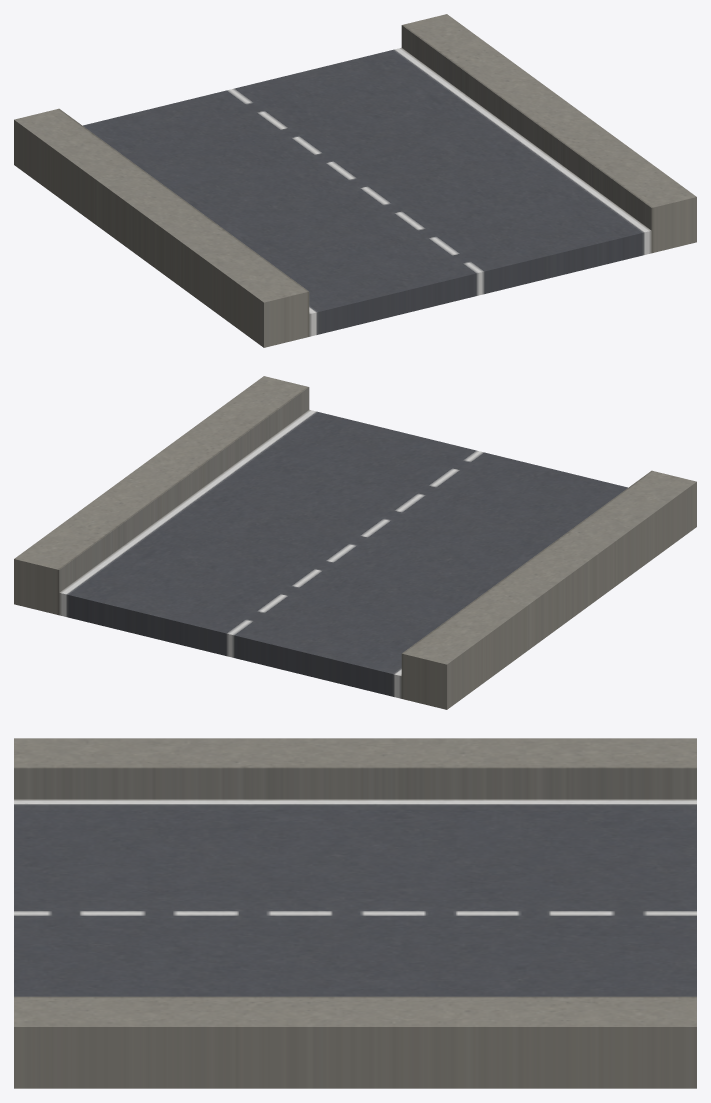
Rendered from street.glb.
The picture shows the model from 3 angles, top to bottom: view 1: azimuth 30°, elevation 25°; view 2: azimuth 150°, elevation 25°; view 3: azimuth 270°, elevation 25°; orthographic projection. The views are drawn at different scales.
Parts seen in each view (by area): view 1: Fläche; view 2: Fläche; view 3: Fläche.
Boxes of the visible parts, bbox=[...] form: Fläche: bbox=[14, 14, 696, 347]; Fläche: bbox=[14, 376, 696, 709]; Fläche: bbox=[14, 738, 696, 1088].
Bounding box in the file's own units: 1 × 0.1 × 1.
1 material, 1 textured.
